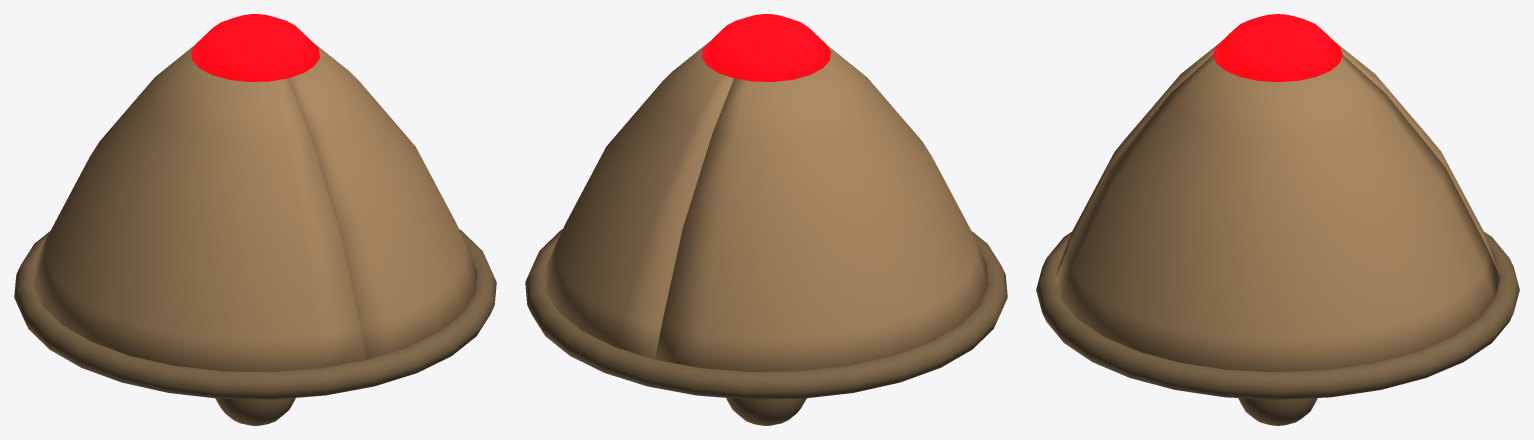
The model's file is peal.glb.
The picture shows the model from 3 angles, left to right: view 1: azimuth 30°, elevation 25°; view 2: azimuth 150°, elevation 25°; view 3: azimuth 270°, elevation 25°; orthographic projection.
Parts seen in each view (by area): view 1: peal_shell_l, peal_shell_r, peal_lip, peal_crown, peal_clapper; view 2: peal_shell_l, peal_shell_r, peal_lip, peal_crown, peal_clapper; view 3: peal_shell_r, peal_lip, peal_crown, peal_shell_l, peal_clapper.
Part boxes in pixels (<box>): peal_shell_l: <box>33,44,366,371</box>; peal_shell_r: <box>288,41,477,359</box>; peal_lip: <box>14,229,496,399</box>; peal_crown: <box>191,14,319,81</box>; peal_clapper: <box>215,398,295,425</box>; peal_shell_l: <box>655,44,988,371</box>; peal_shell_r: <box>544,41,733,359</box>; peal_lip: <box>525,229,1007,399</box>; peal_crown: <box>702,14,830,81</box>; peal_clapper: <box>726,398,806,425</box>; peal_shell_r: <box>1055,55,1500,372</box>; peal_lip: <box>1036,232,1519,399</box>; peal_crown: <box>1213,14,1342,82</box>; peal_shell_l: <box>1056,43,1499,275</box>; peal_clapper: <box>1238,398,1317,425</box>.
Bounding box in the file's own units: 1.79 × 1.62 × 1.79.
